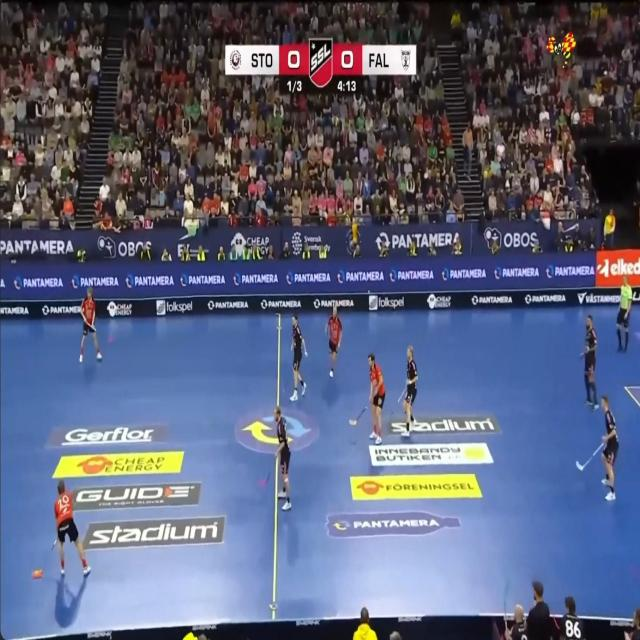player: (54, 480, 90, 575), (79, 287, 102, 362), (602, 395, 618, 500), (274, 407, 290, 509), (368, 353, 385, 444), (582, 315, 598, 409), (290, 315, 306, 400), (616, 275, 633, 351), (403, 346, 417, 436), (559, 596, 586, 639), (326, 306, 342, 377), (504, 604, 526, 639), (624, 607, 640, 639)
stick: (576, 443, 604, 471), (501, 580, 509, 639), (349, 407, 367, 425), (81, 314, 95, 331), (259, 470, 270, 485), (397, 385, 406, 403), (397, 385, 405, 405), (31, 568, 43, 579), (392, 405, 400, 414), (91, 325, 96, 331), (53, 540, 56, 548), (50, 548, 52, 552)
